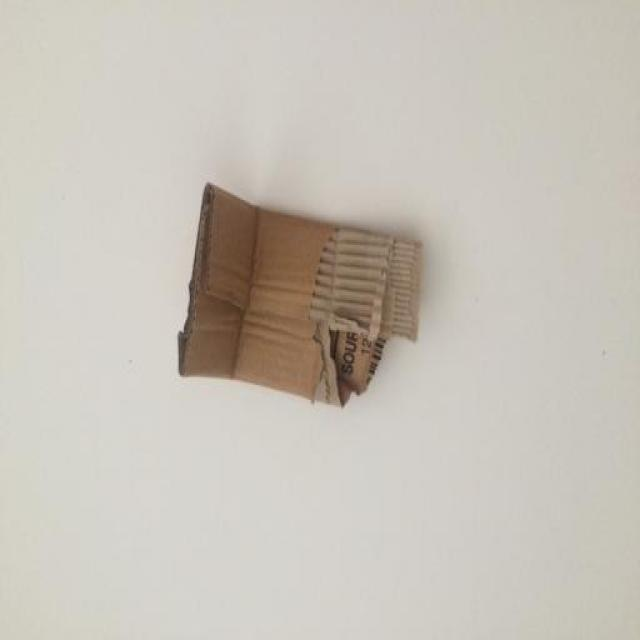cardboard: (158, 163, 443, 433)
